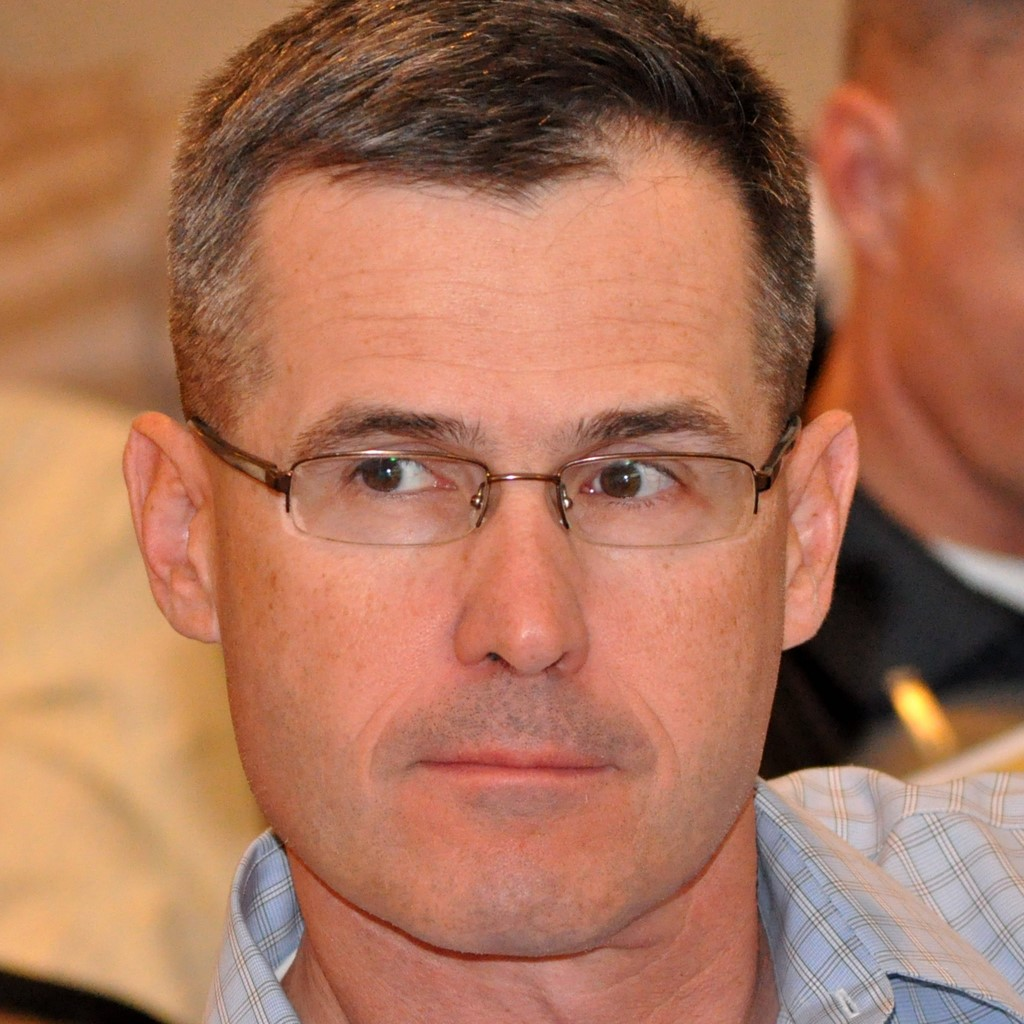sin_mascara: (184, 72, 796, 948)
